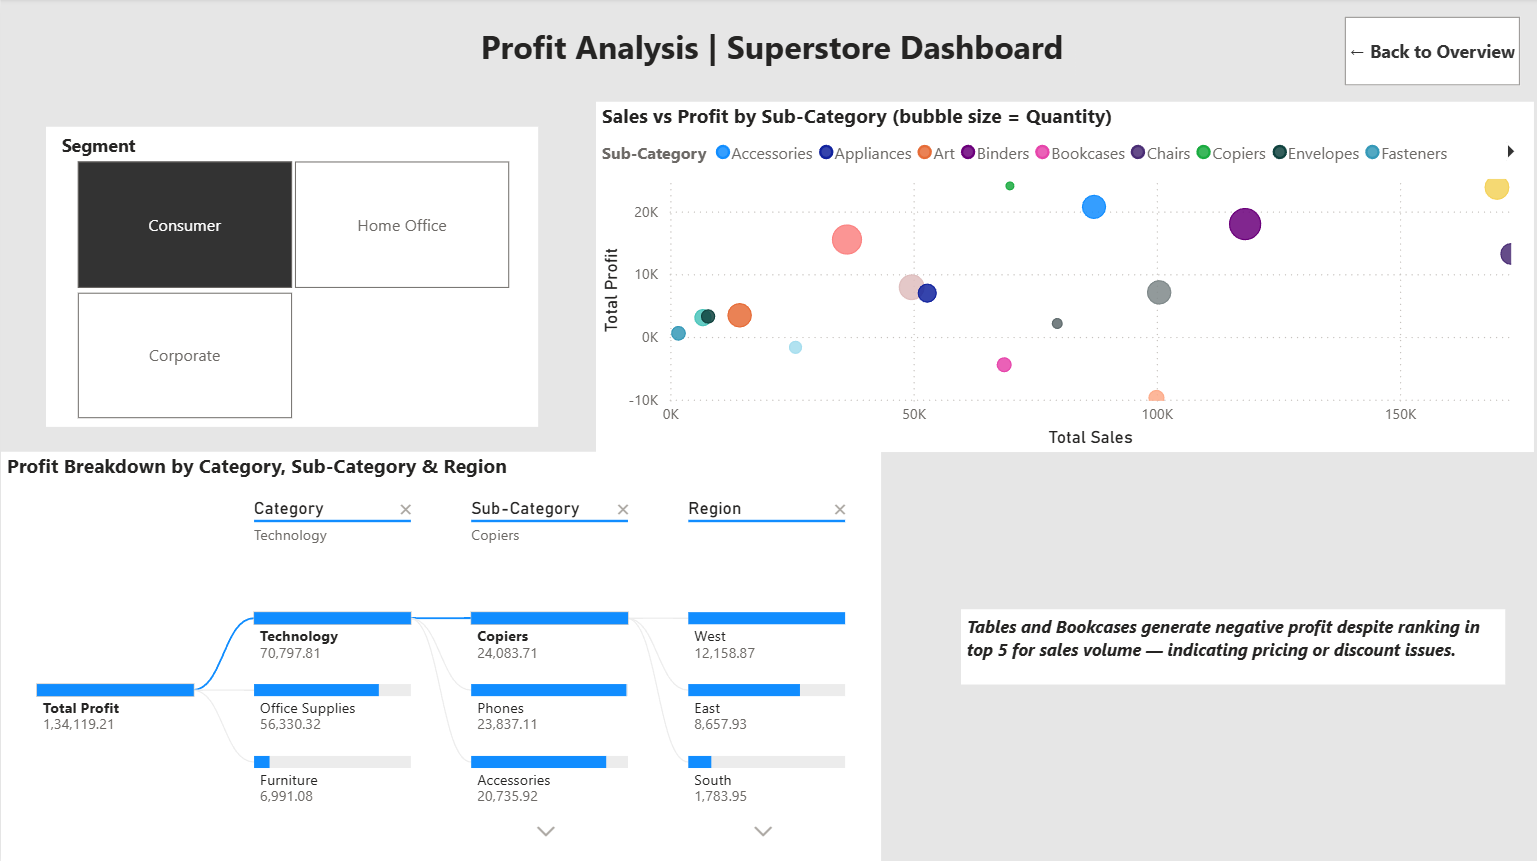

The dashboard page shown, as its layout file describes it:
{"tool":"powerbi","page":{"name":"Profit Analysis","canvas":[1280,720],"ordinal":1},"visuals":[{"type":"scatterChart","title":"Sales vs Profit by Sub-Category (bubble size = Quantity)","fields":{"X":["_Measures.Total Sales"],"Y":["_Measures.Total Profit"],"Series":["Sample - Superstore.Sub-Category"],"Size":["_Measures.Total Quantity"]},"box":[493,86,777.9,290.7],"z":0},{"type":"decompositionTreeVisual","title":"Profit Breakdown by Category, Sub-Category & Region","fields":{"Analyze":["_Measures.Total Profit"],"ExplainBy":["Sample - Superstore.Category","Sample - Superstore.Sub-Category","Sample - Superstore.Region"]},"box":[0,376.5,729.4,343.1],"z":1000},{"type":"actionButton","box":[1114,15.1,145.3,57],"z":2000},{"type":"textbox","box":[795.4,507,451.2,62.8],"z":3000},{"type":"textbox","title":"Profit Analysis | Superstore Dashboard","box":[387.2,22.1,503.5,44.2],"z":4000},{"type":"slicer","fields":{"Values":["Sample - Superstore.Segment"]},"box":[37.2,107,408.1,248.8],"z":5000}]}

Visuals, with their boxes in screenshot pixels (x1, y1, x2, y2), scaled from the page's 1280x720 canvas onto the 1537x861 screenshot:
"Sales vs Profit by Sub-Category (bubble size = Quantity)" scatterChart: 592, 103, 1526, 450
"Profit Breakdown by Category, Sub-Category & Region" decompositionTreeVisual: 0, 450, 876, 860
actionButton: 1338, 18, 1512, 86
textbox: 955, 606, 1497, 681
"Profit Analysis | Superstore Dashboard" textbox: 465, 26, 1070, 79
slicer - Sample - Superstore.Segment: 45, 128, 535, 425
